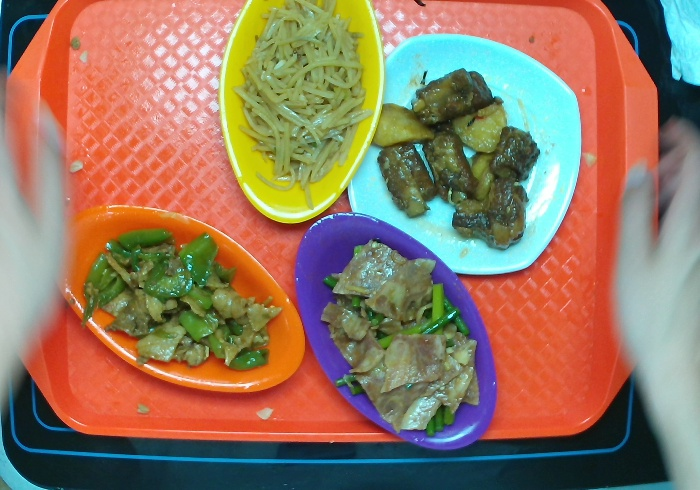RJxy-Fen_Hong_Tuo_Yuan: (291, 204, 499, 460)
RJxy-Huang_Se_Tuo_Yuan: (214, 1, 388, 227)
RJxy-Ju_Huang_Tuo_Yuan: (51, 200, 311, 397)
RJxy-Si_Fang_Die: (342, 30, 586, 279)
